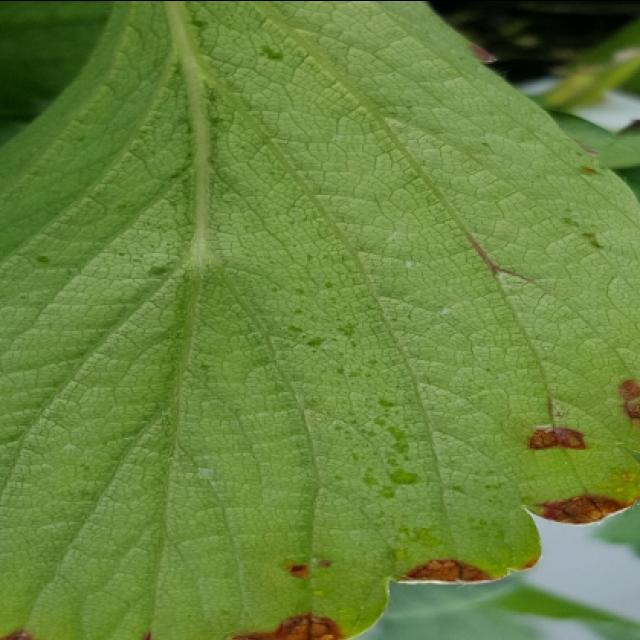Angular Leafspot: (12, 2, 625, 572)
